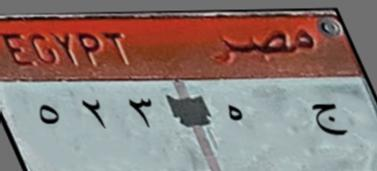2: (82, 95, 111, 142)
3: (118, 95, 160, 136)
5: (34, 98, 70, 139)
haa: (221, 98, 252, 133)
jeem: (300, 96, 350, 150)
